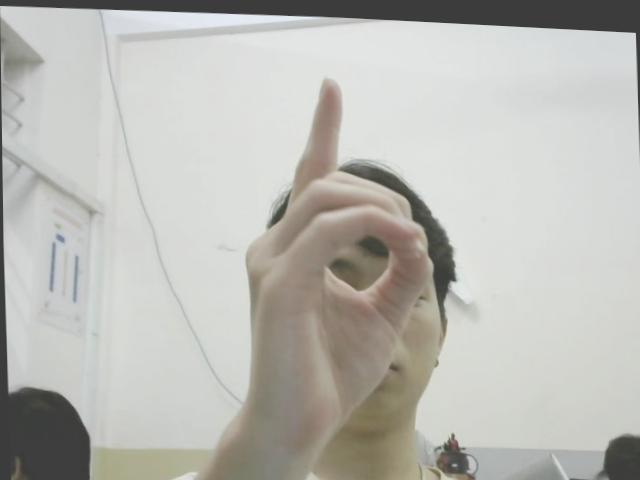D: (233, 64, 438, 431)
